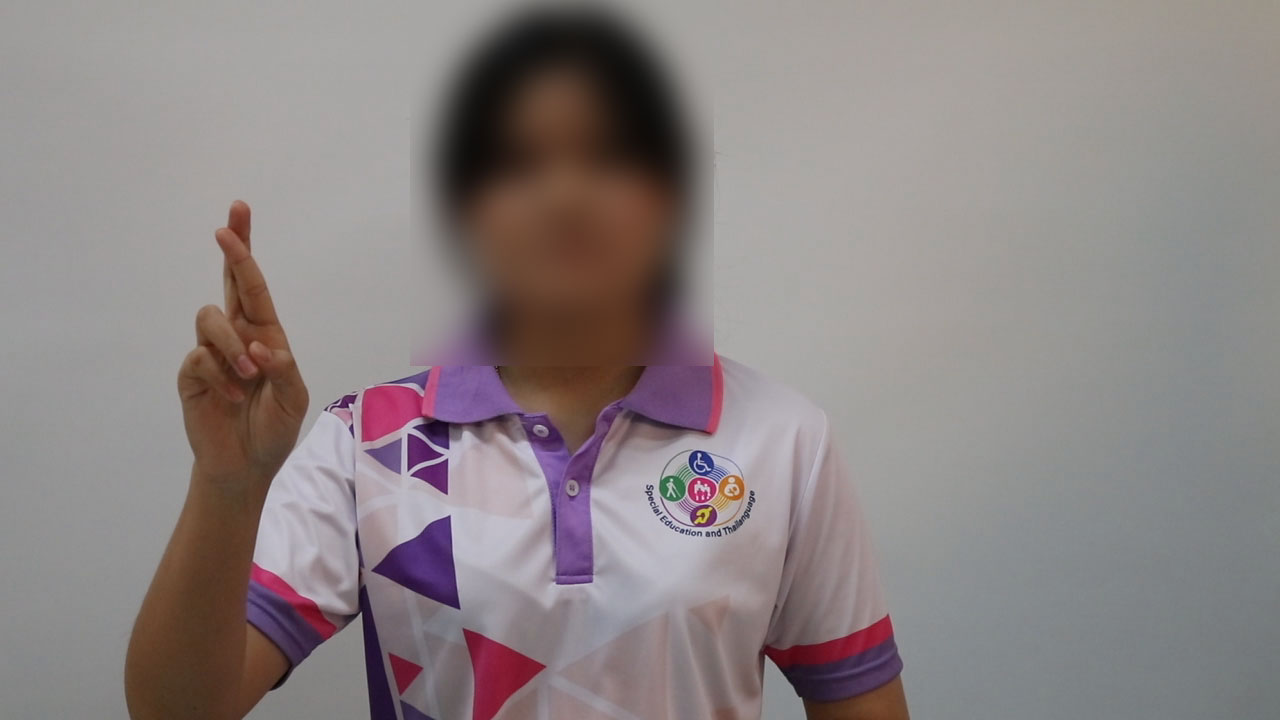rao: (140, 193, 315, 497)
